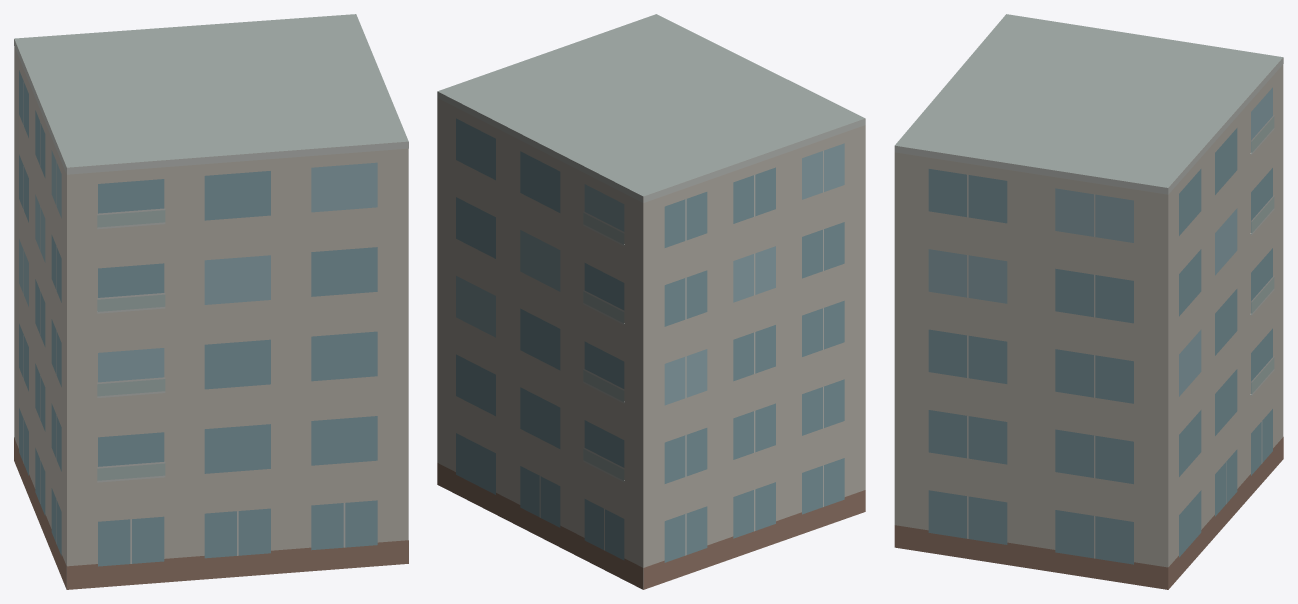
The model's file is survey-upis-32894351.glb.
3 renders of one model, left to right at view 1: azimuth 30°, elevation 25°; view 2: azimuth 150°, elevation 25°; view 3: azimuth 270°, elevation 25°, orthographic. The views are drawn at different scales.
Parts seen in each view (by area): view 1: survey-upis-32894351.tmp; view 2: survey-upis-32894351.tmp; view 3: survey-upis-32894351.tmp.
Boxes of the visible parts, bbox=[...] form: survey-upis-32894351.tmp: bbox=[14, 14, 408, 589]; survey-upis-32894351.tmp: bbox=[437, 14, 865, 589]; survey-upis-32894351.tmp: bbox=[894, 14, 1283, 589].
Size of the model in its own units: 13.61 by 14.65 by 12.86.
